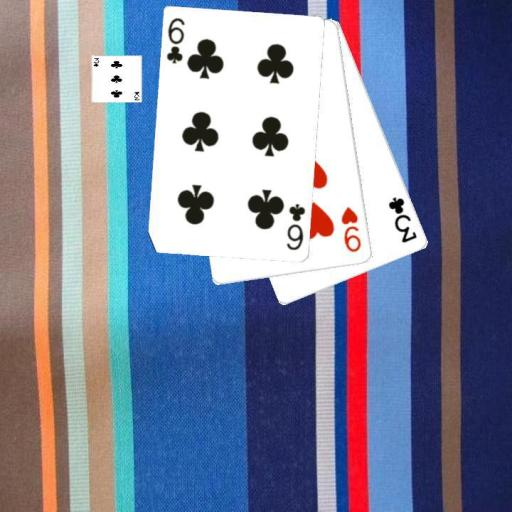3C: (385, 194, 419, 245)
6C: (284, 202, 307, 253), (164, 15, 187, 66)
9H: (339, 204, 364, 254)
